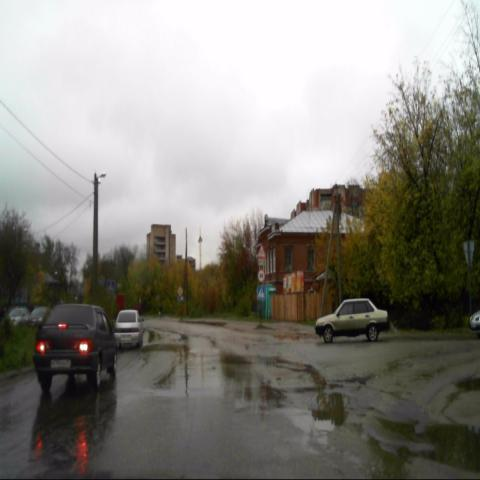1_23: (258, 244, 266, 257)
3_24: (257, 270, 264, 281)
5_19_1: (256, 285, 264, 300)
